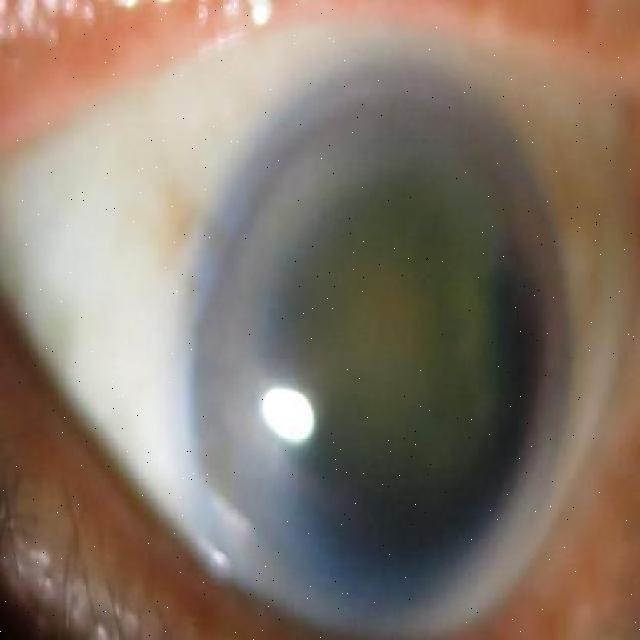Cataract: (185, 49, 565, 617)
